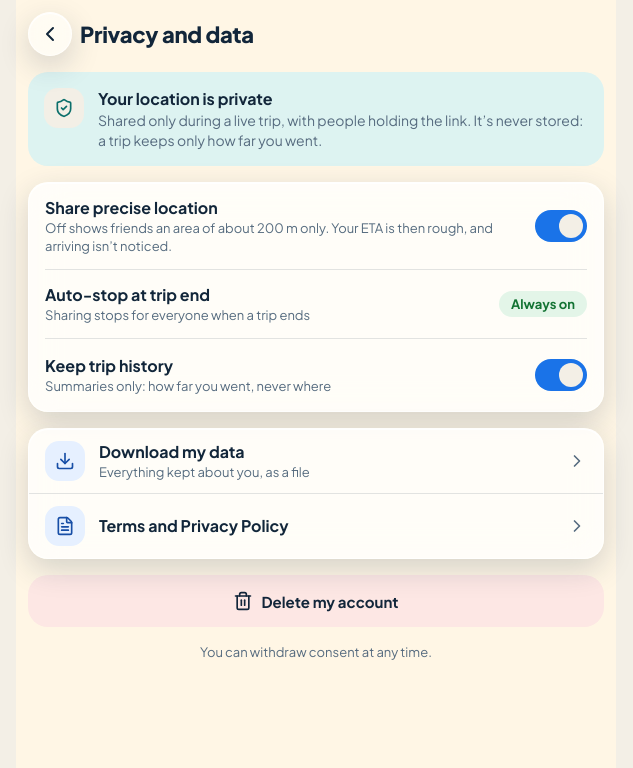
it: The privacy switches › turns precise location off and on
The width and height of the screenshot is (633, 768).
Step 1. Click the switch labelled "Share precise location" → click(316, 226), box 45,197 -> 587,255
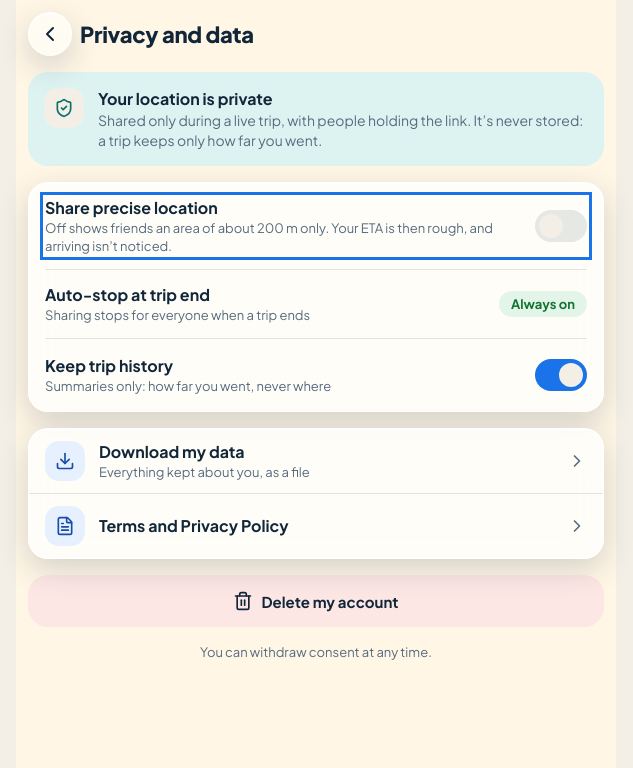
Expected: the switch labelled "Share precise location" is not checked, 45,197 -> 587,255
